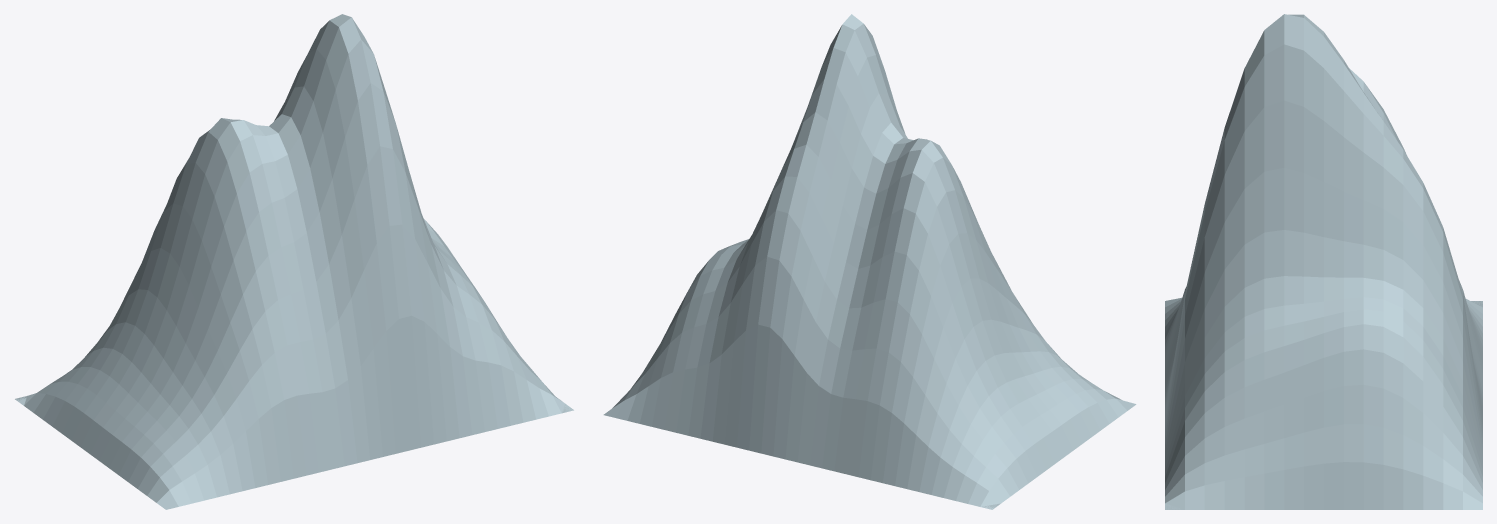
File: Test_CheonRef_MountainMid.fbx
3 renders of one model, left to right at view 1: azimuth 30°, elevation 25°; view 2: azimuth 150°, elevation 25°; view 3: azimuth 270°, elevation 25°, orthographic. The views are drawn at different scales.
Parts seen in each view (by area): view 1: ConnectedMountainRidge.001; view 2: ConnectedMountainRidge.001; view 3: ConnectedMountainRidge.001.
Part boxes in pixels (x1,y1,x2,y2): ConnectedMountainRidge.001: [15, 14, 573, 509]; ConnectedMountainRidge.001: [603, 14, 1136, 509]; ConnectedMountainRidge.001: [1165, 14, 1482, 509].
Size of the model in its own units: 2800 by 2568 by 1800.
